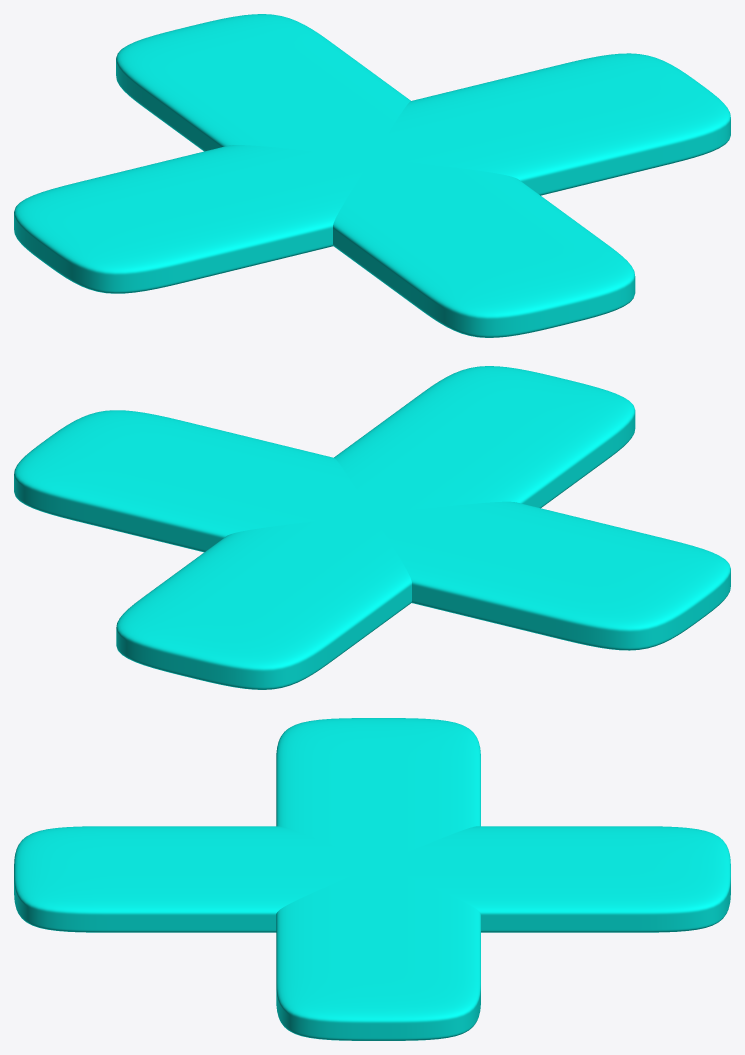
File: Button_X_.fbx
The picture shows the model from 3 angles, top to bottom: view 1: azimuth 30°, elevation 25°; view 2: azimuth 150°, elevation 25°; view 3: azimuth 270°, elevation 25°; orthographic projection. The views are drawn at different scales.
Visible parts, largest first — view 1: AARF.024; view 2: AARF.024; view 3: AARF.024.
Boxes of the visible parts, x1=… form: AARF.024: x1=14, y1=14, x2=730, y2=337; AARF.024: x1=14, y1=366, x2=730, y2=689; AARF.024: x1=14, y1=718, x2=730, y2=1040.
Bounding box in the file's own units: 43.75 × 2 × 43.75.
